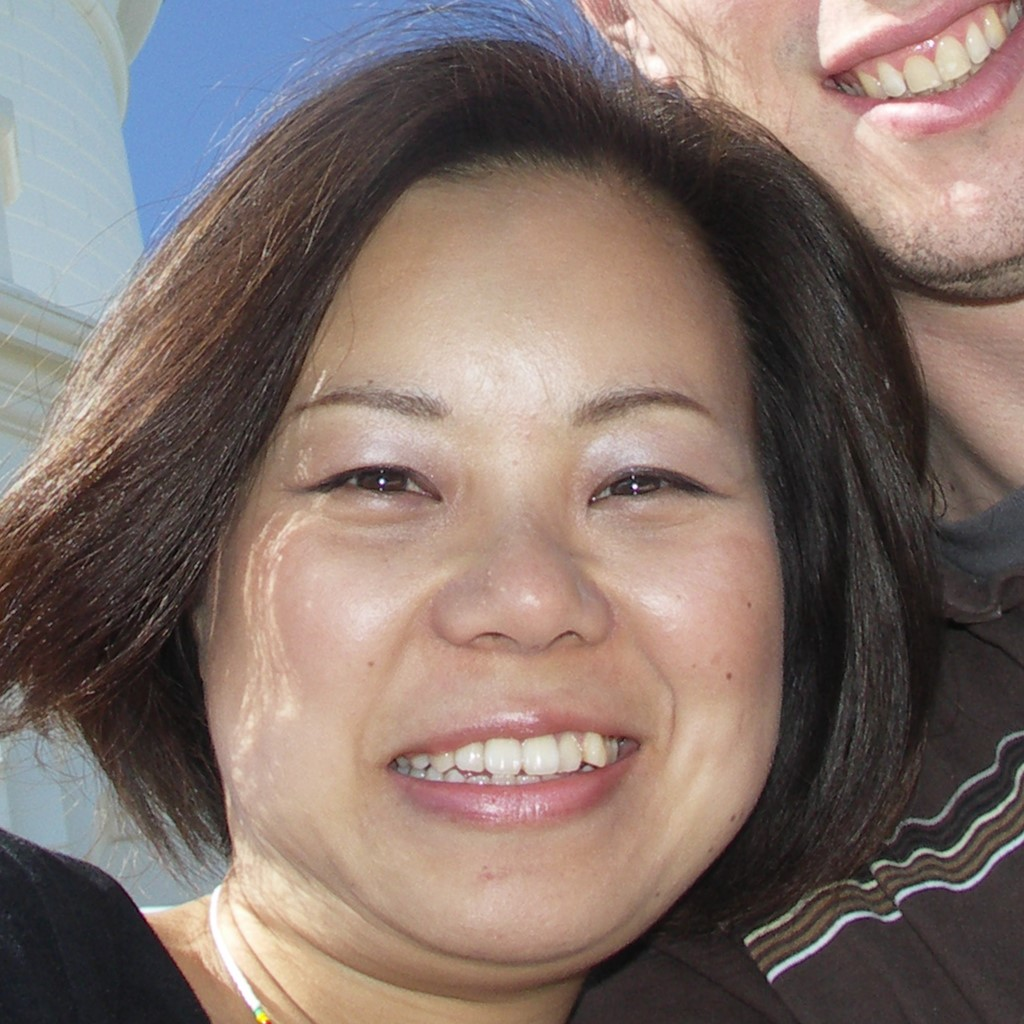sin_mascara: (232, 202, 783, 930)
